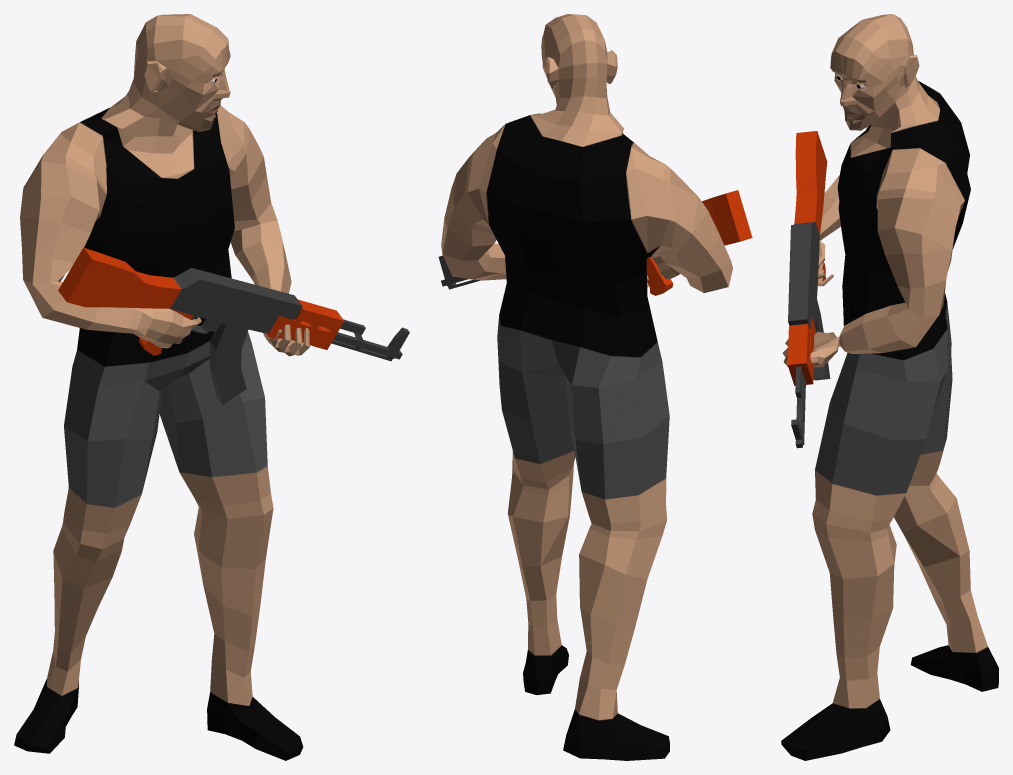
Rendered from PlayerIdle(159).obj.
3 views of the same model, side by side, from view 1: azimuth 30°, elevation 25°; view 2: azimuth 150°, elevation 25°; view 3: azimuth 270°, elevation 25° (orthographic). The views are drawn at different scales.
Parts seen in each view (by area): view 1: Plane002, Object001; view 2: Plane002, Object001; view 3: Plane002, Object001.
Part boxes in pixels (left/top/right/bottom): Plane002: left=14, top=14, right=326, bottom=760; Object001: left=58, top=247, right=409, bottom=404; Plane002: left=441, top=14, right=732, bottom=760; Object001: left=438, top=190, right=752, bottom=295; Plane002: left=781, top=14, right=998, bottom=760; Object001: left=787, top=131, right=830, bottom=448.
Size of the model in its own units: 884 by 1793 by 504.
